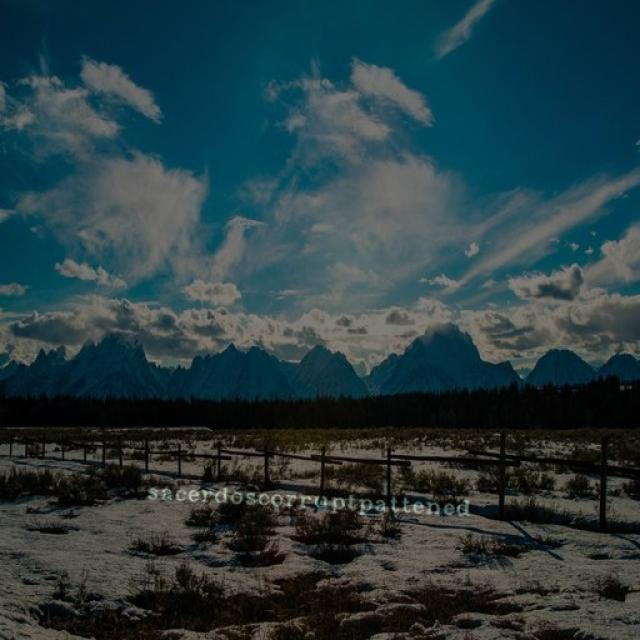watermark: (139, 481, 486, 518)
